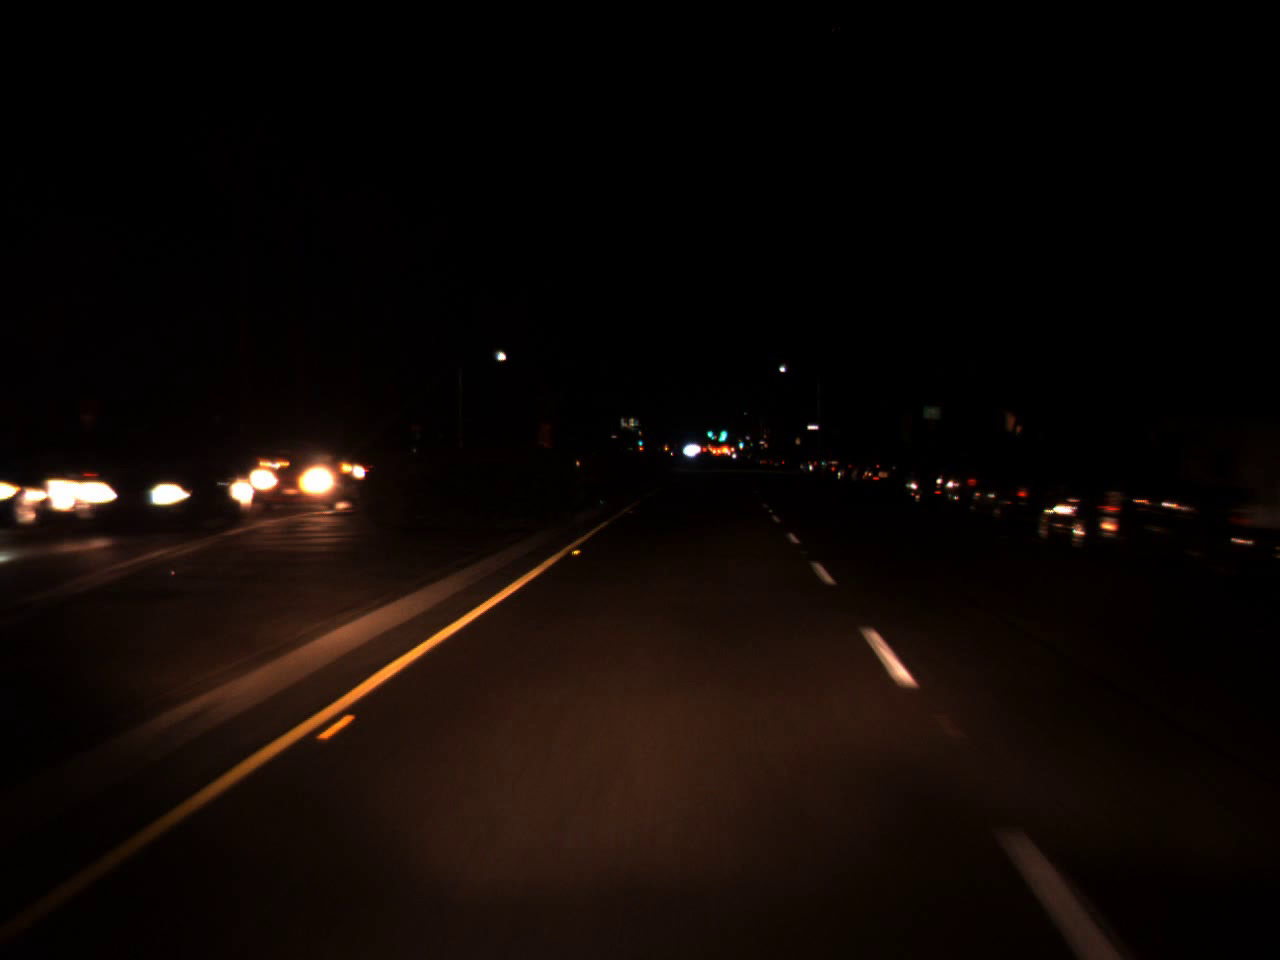go: (715, 422, 729, 440), (703, 419, 714, 441), (635, 435, 644, 447), (737, 436, 744, 448)
